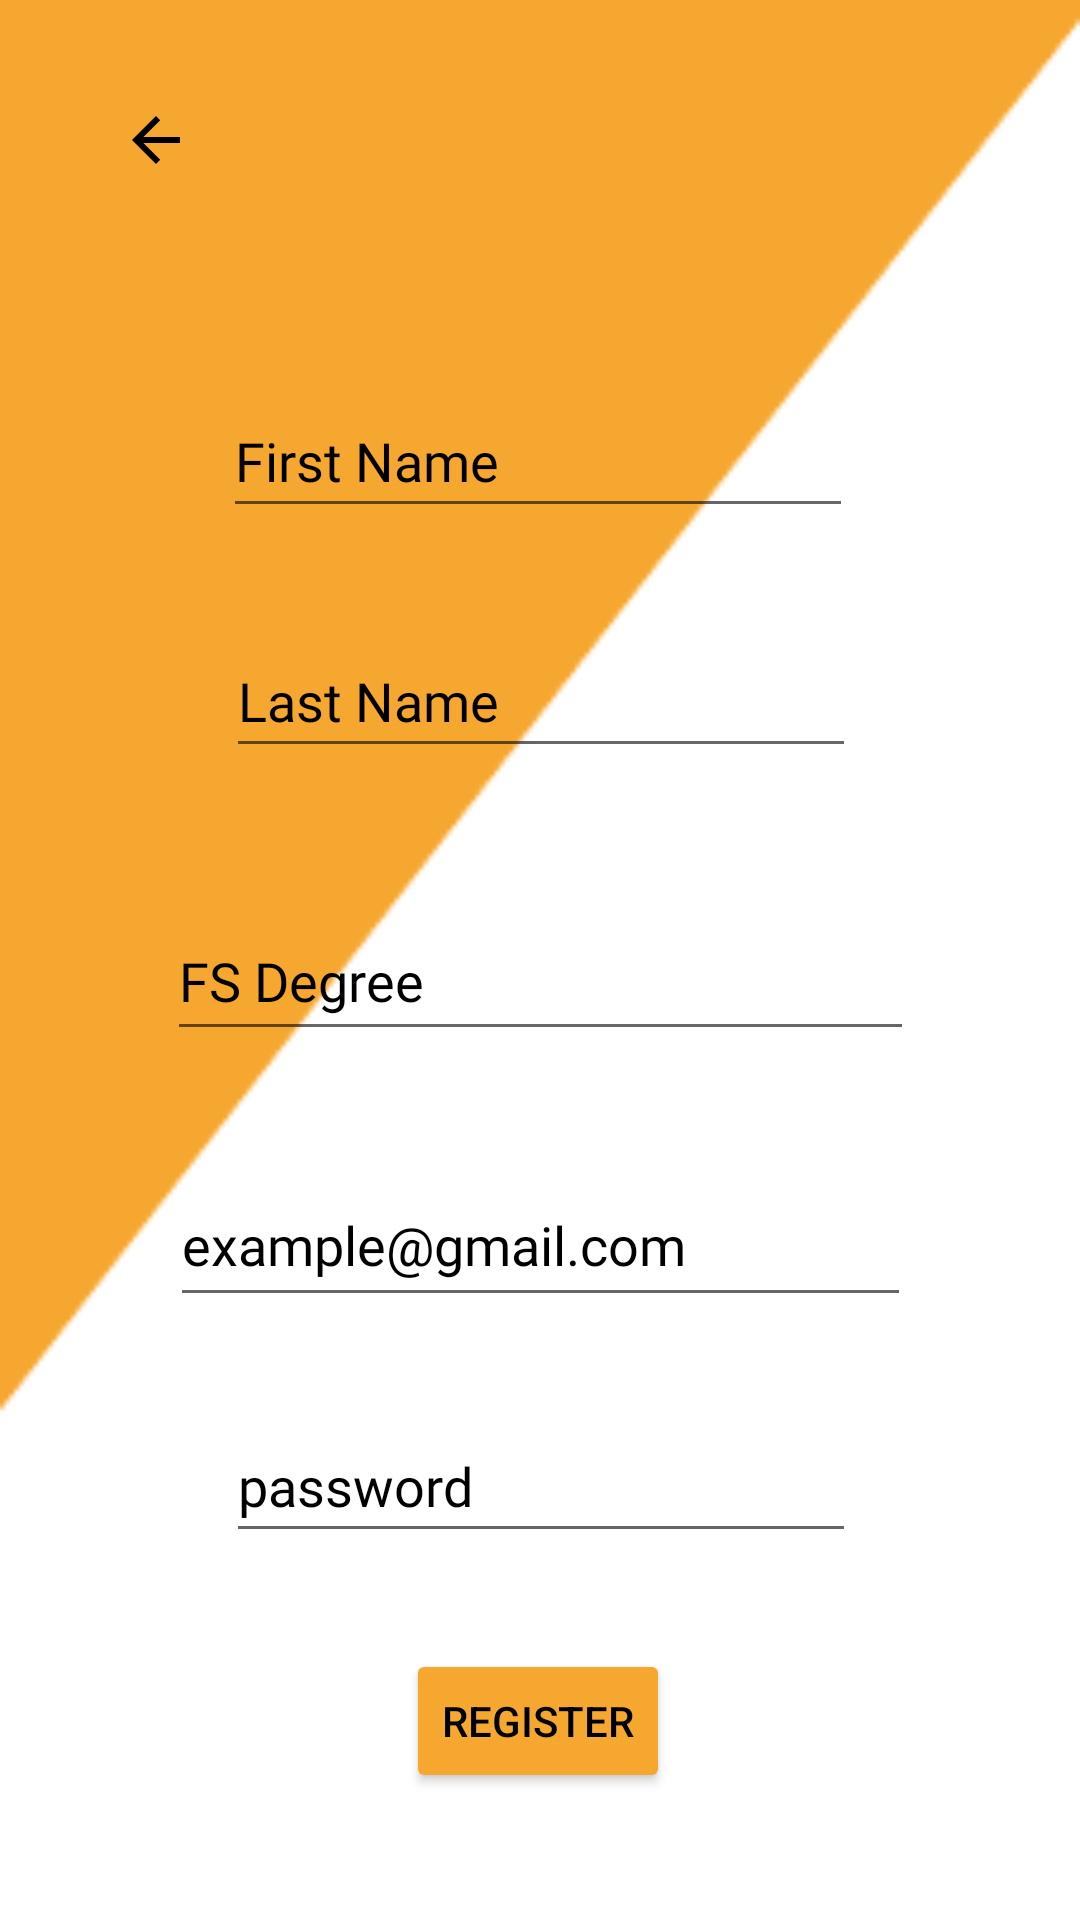

Where to tap for icons on this 1080px x 1920px app screen, as [x,y]:
back: [156,140]
